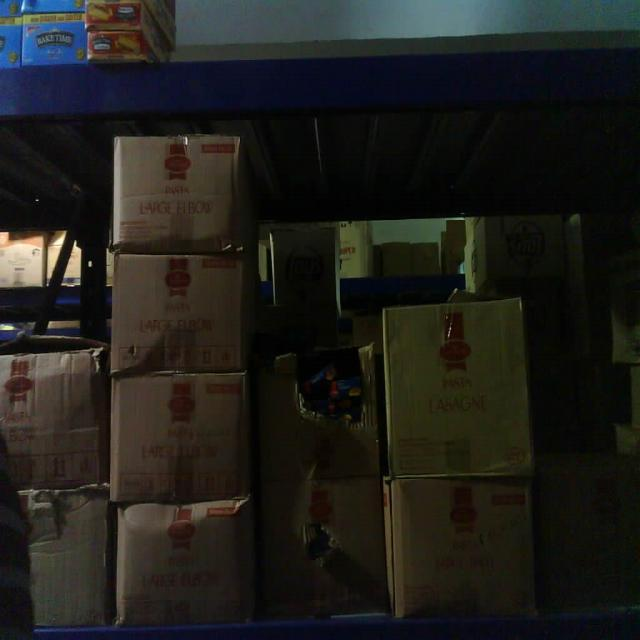cardboxes: (382, 304, 534, 476), (392, 473, 538, 613), (108, 370, 250, 503), (112, 248, 247, 370), (118, 499, 248, 624), (114, 130, 242, 254), (0, 346, 106, 493), (0, 486, 110, 626)
